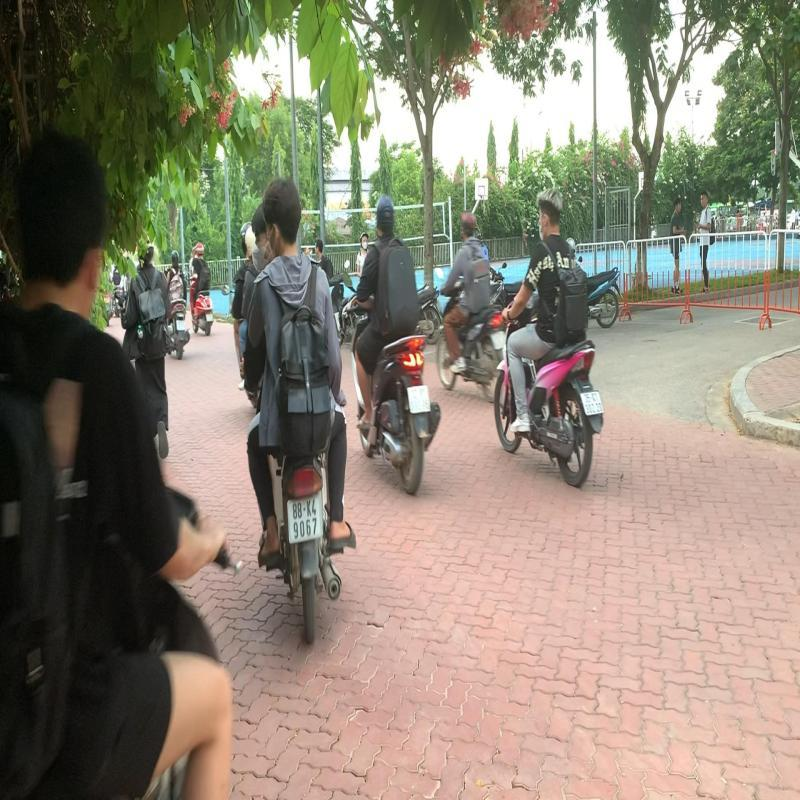licenseplate: (288, 496, 324, 544), (580, 390, 604, 419)
motorcyclist: (241, 172, 358, 646), (492, 184, 606, 493)
nohelmet: (265, 178, 301, 246), (252, 202, 274, 272), (538, 187, 562, 232)
